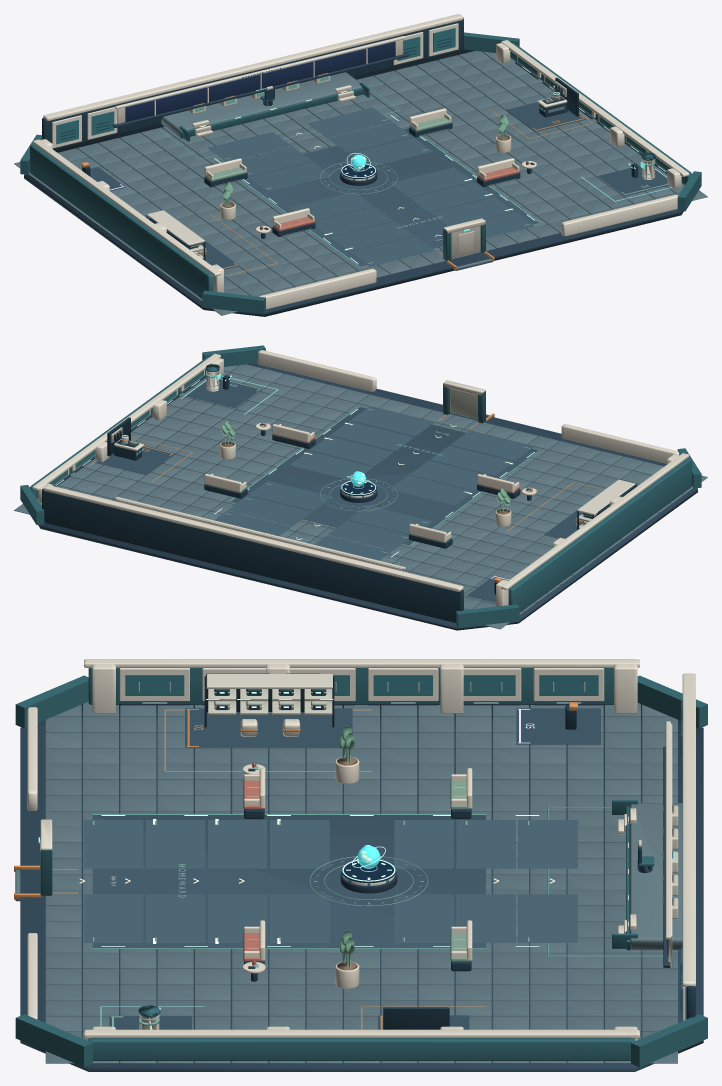
File: ship_hub_blender_v2.glb
3 views of the same model, one above another, from view 1: azimuth 30°, elevation 25°; view 2: azimuth 150°, elevation 25°; view 3: azimuth 270°, elevation 25° (orthographic). The views are drawn at different scales.
Parts seen in each view (by area): view 1: Deck_floor, Deck_V2_DeckRaised, Hull_hull_light, Deck_floor_alt, Hull_teal, Deck_deck_mid, Deck_dark, Bridge_panorama_glass, Bridge_floor_alt, Deck_V2_DeckInset, Hull_teal_dark, Decor_ivory (+12 smaller); view 2: Deck_floor, Deck_V2_DeckRaised, Hull_teal_dark, Hull_hull_light, Hull_teal, Deck_deck_mid, Deck_dark, Deck_floor_alt, Deck_V2_DeckInset, Decor_ivory, Decor_teal_dark, Bridge_hull_light (+6 smaller); view 3: Deck_floor, Deck_V2_DeckRaised, Hull_teal, Hull_hull_light, Deck_floor_alt, Deck_dark, Deck_deck_mid, Deck_V2_DeckInset, V2Hull_V2_Porcelain, Bridge_floor_alt, V2Hull_V2_Enamel, Decor_ivory (+17 smaller).
Part boxes in pixels (x1,y1,x2,y2): Deck_floor: (28,51,707,315); Deck_V2_DeckRaised: (208,107,534,266); Hull_hull_light: (32,14,689,309); Deck_floor_alt: (14,64,674,296); Hull_teal: (20,32,701,314); Deck_deck_mid: (242,128,538,266); Deck_dark: (24,49,683,316); Bridge_panorama_glass: (125,41,395,122); Bridge_floor_alt: (161,72,361,136); Deck_V2_DeckInset: (90,102,668,269); Hull_teal_dark: (42,18,463,150); Decor_ivory: (204,108,536,233); Deck_floor: (14,364,707,614); Deck_V2_DeckRaised: (214,406,534,560); Hull_teal_dark: (42,489,463,622); Hull_hull_light: (32,350,689,606); Hull_teal: (20,345,701,627); Deck_deck_mid: (231,407,538,545); Deck_dark: (38,363,697,630); Deck_floor_alt: (54,369,663,629); Deck_V2_DeckInset: (95,378,582,602); Decor_ivory: (204,423,536,542); Decor_teal_dark: (204,423,531,548); Bridge_hull_light: (116,499,403,571); Deck_floor: (45,701,677,1063); Deck_V2_DeckRaised: (83,820,577,942); Hull_teal: (15,668,707,1067); Hull_hull_light: (27,659,695,1040); Deck_floor_alt: (45,704,677,1063); Deck_dark: (20,704,703,1071); Deck_deck_mid: (92,815,485,947); Deck_V2_DeckInset: (109,708,600,1029); V2Hull_V2_Porcelain: (119,668,685,1020); Bridge_floor_alt: (629,803,682,950); V2Hull_V2_Enamel: (125,675,682,1018); Decor_ivory: (243,756,472,988).
Size of the model in its own units: 42.42 by 3.21 by 33.51.
